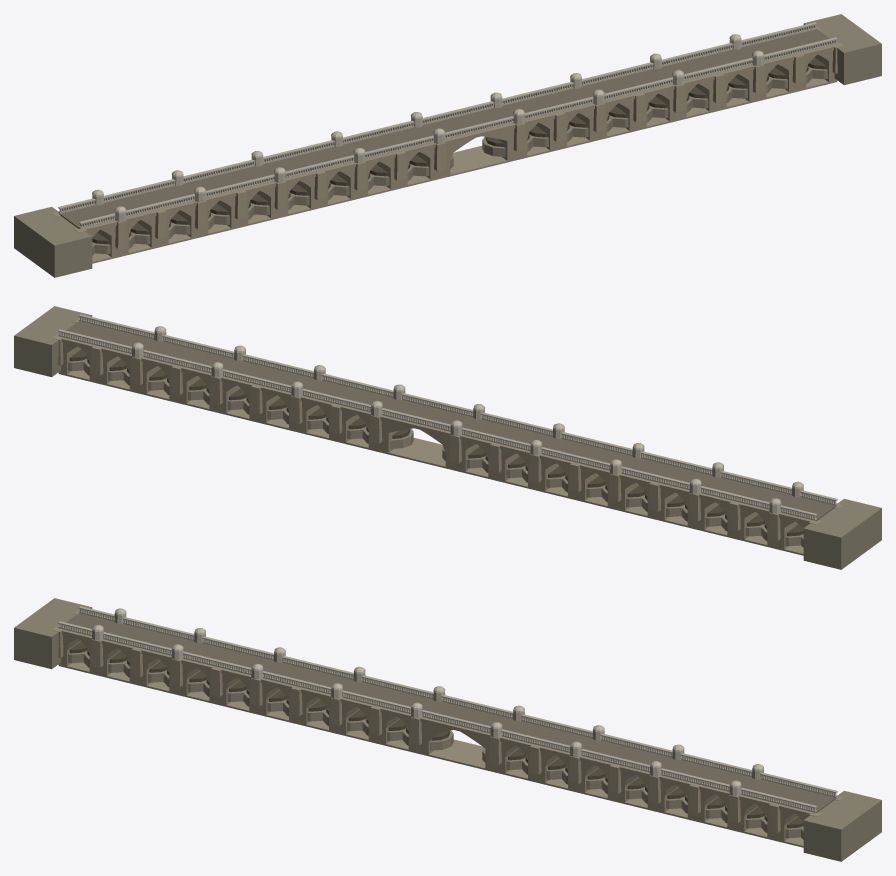
The model's file is old_london_bridge_bare.glb.
3 views of the same model, one above another, from view 1: azimuth 30°, elevation 25°; view 2: azimuth 150°, elevation 25°; view 3: azimuth 330°, elevation 25° (orthographic).
Visible parts, largest first — view 1: old_london_bridge_bare; view 2: old_london_bridge_bare; view 3: old_london_bridge_bare.
Part boxes in pixels (box(x1,y1,x2,y2)): old_london_bridge_bare: box(14, 14, 881, 277); old_london_bridge_bare: box(14, 306, 881, 569); old_london_bridge_bare: box(14, 598, 881, 861).
Size of the model in its own units: 306 by 17.8 by 26.
